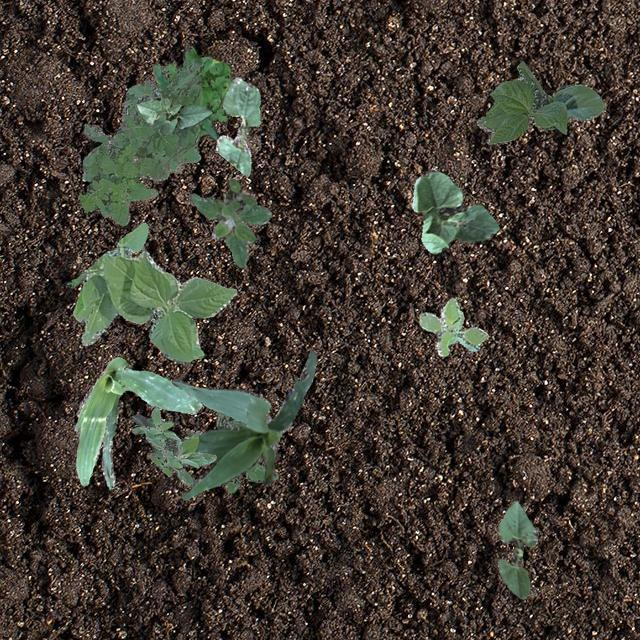crop: (130, 346, 316, 498), (68, 222, 235, 362), (74, 356, 200, 488), (474, 60, 604, 144), (410, 168, 498, 252), (214, 76, 260, 176), (496, 499, 536, 598), (136, 95, 210, 134)
weed: (76, 56, 202, 225), (152, 44, 232, 140), (188, 177, 270, 266), (195, 410, 278, 492), (130, 406, 216, 484), (418, 296, 488, 356)
